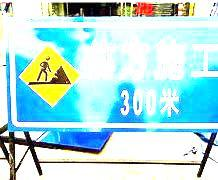sign: (11, 22, 217, 129)
